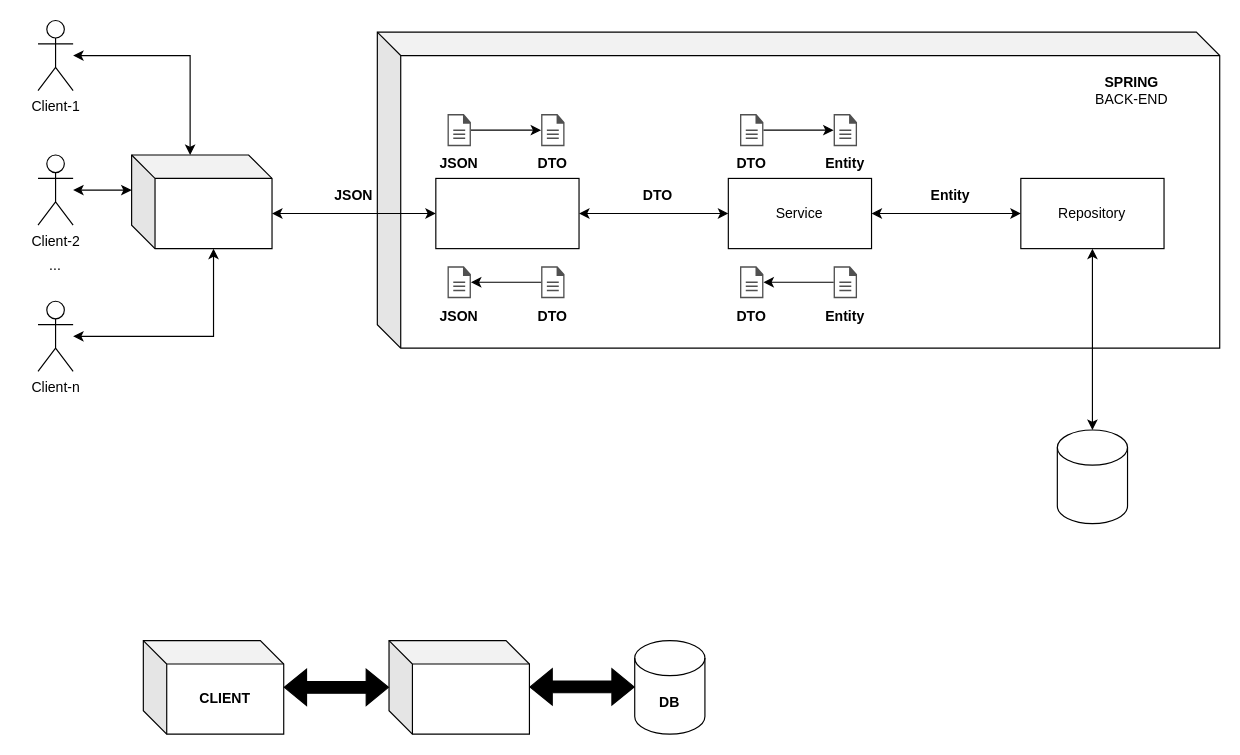
The diagram is 1240 pixels wide and 755 high, and some of its shapes have lost their labels. Here are the shapes that lost their labels. From the top down, the centre of each, then its label:
(201,201): REACT FRONT-END
(507,213): Controller
(1092,476): PGSQL DB
(458,686): SERVER
